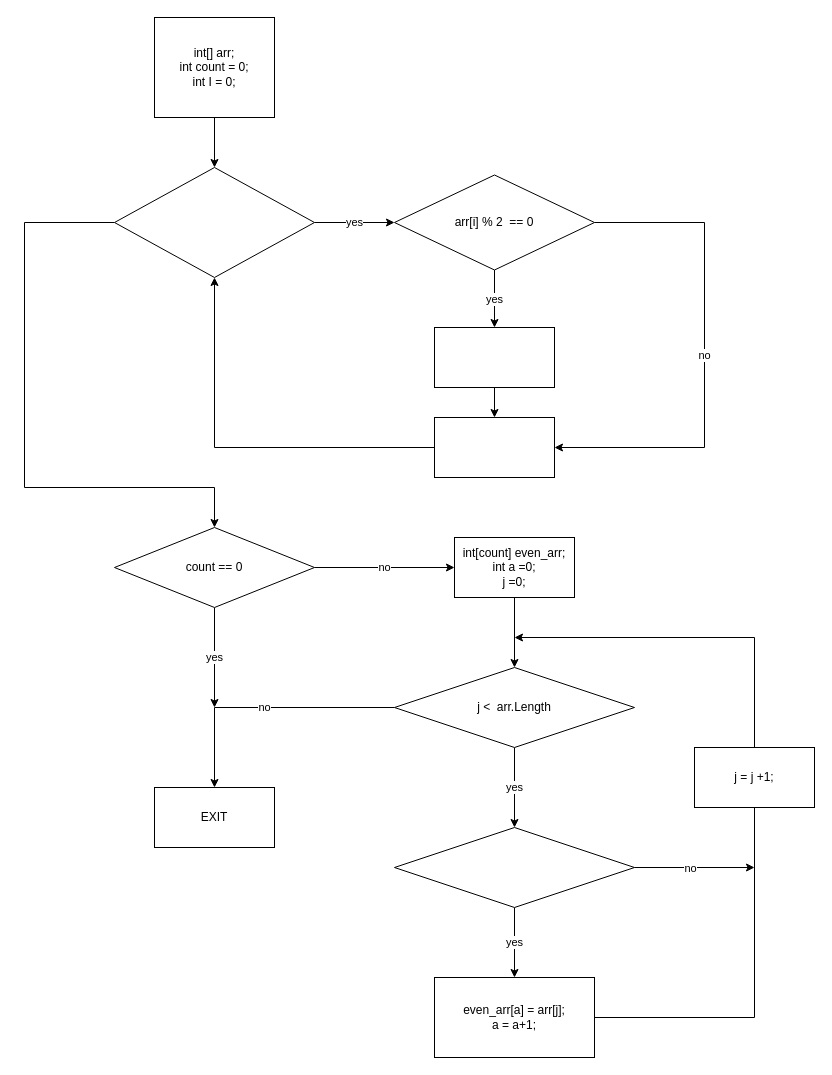
Image size: 832x1075. Some labels were removed from this diagram. Each missing label, with the centre of its shape:
"arr[j] % 2 ==0" belongs at point 514,867.
"count= count+1;" belongs at point 494,357.
"i < arr.Length" belongs at point 214,222.
"i = i +1;" belongs at point 494,447.
